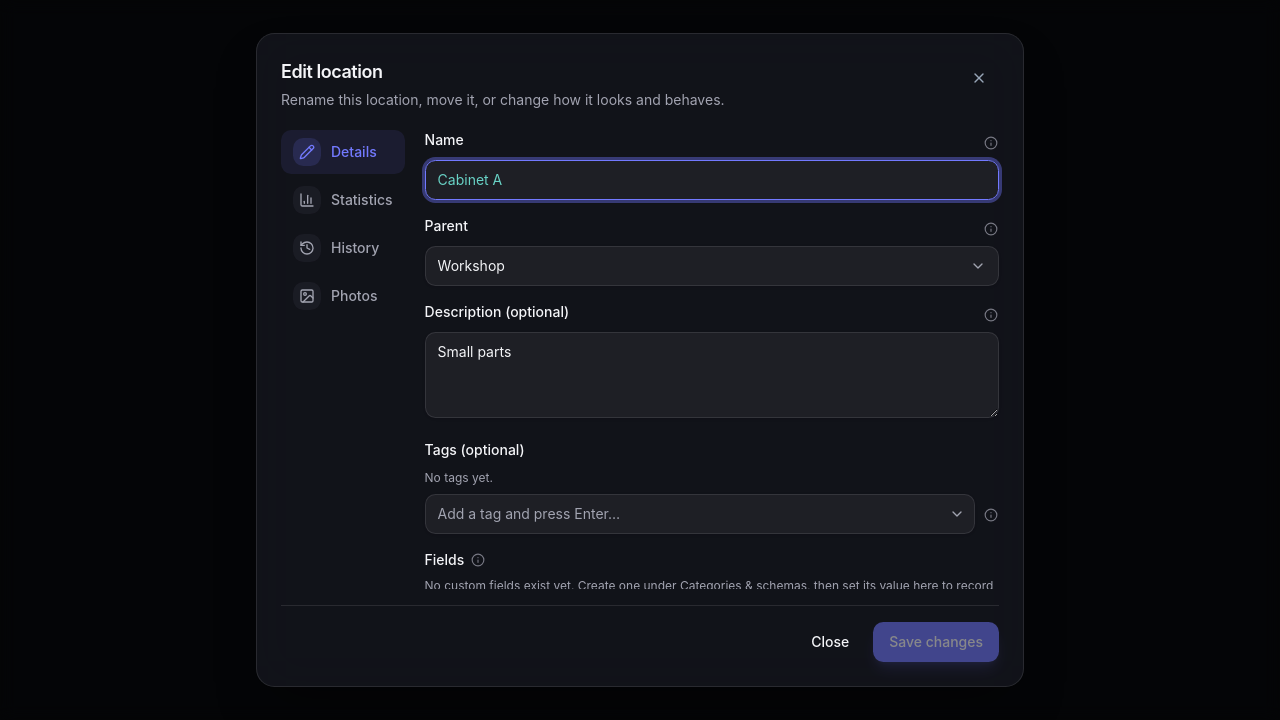
Scenario: EditLocationDialog — the field surface › excludes the location itself and its descendants from the parent picker
What coordinates should you click on to do the following:
click the dropdown named "Parent"
I would click on:
 (712, 266)
Its box is [425,246,999,286].
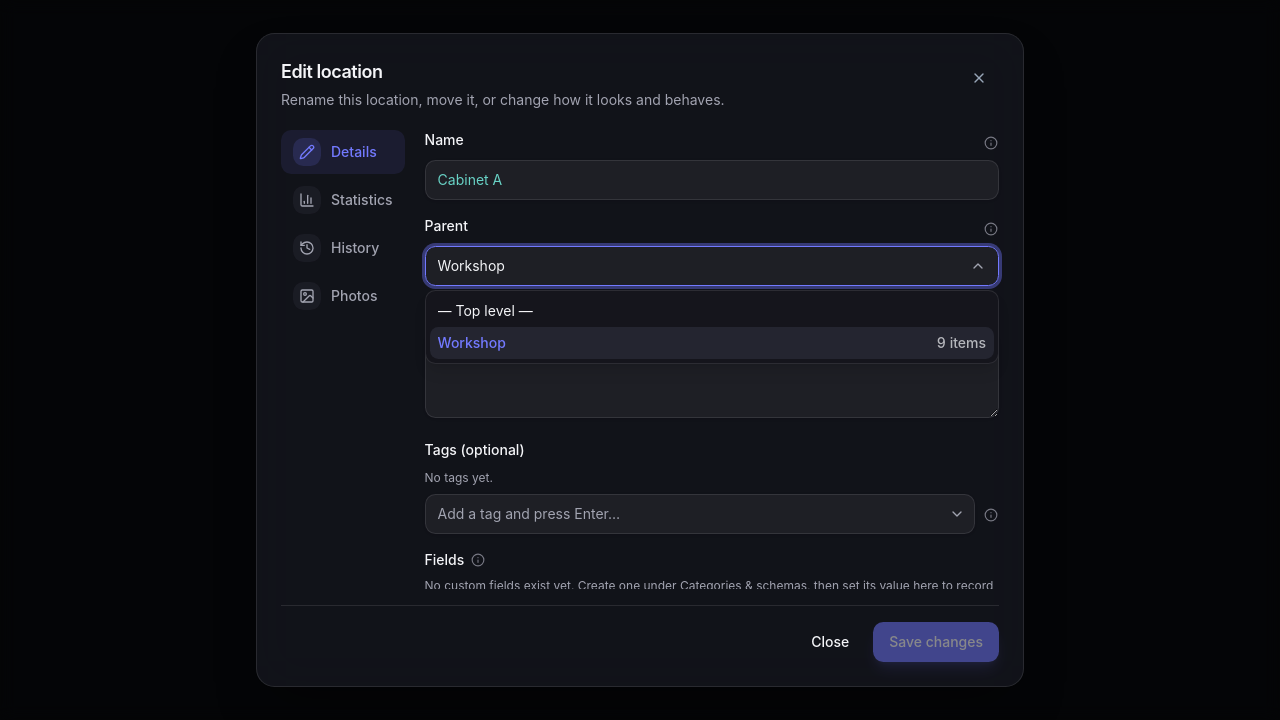
Check: the option "Workshop 9 items" is shown, box [430,327,994,359]
Check: the option "— Top level —" is shown, box [438,302,533,319]
